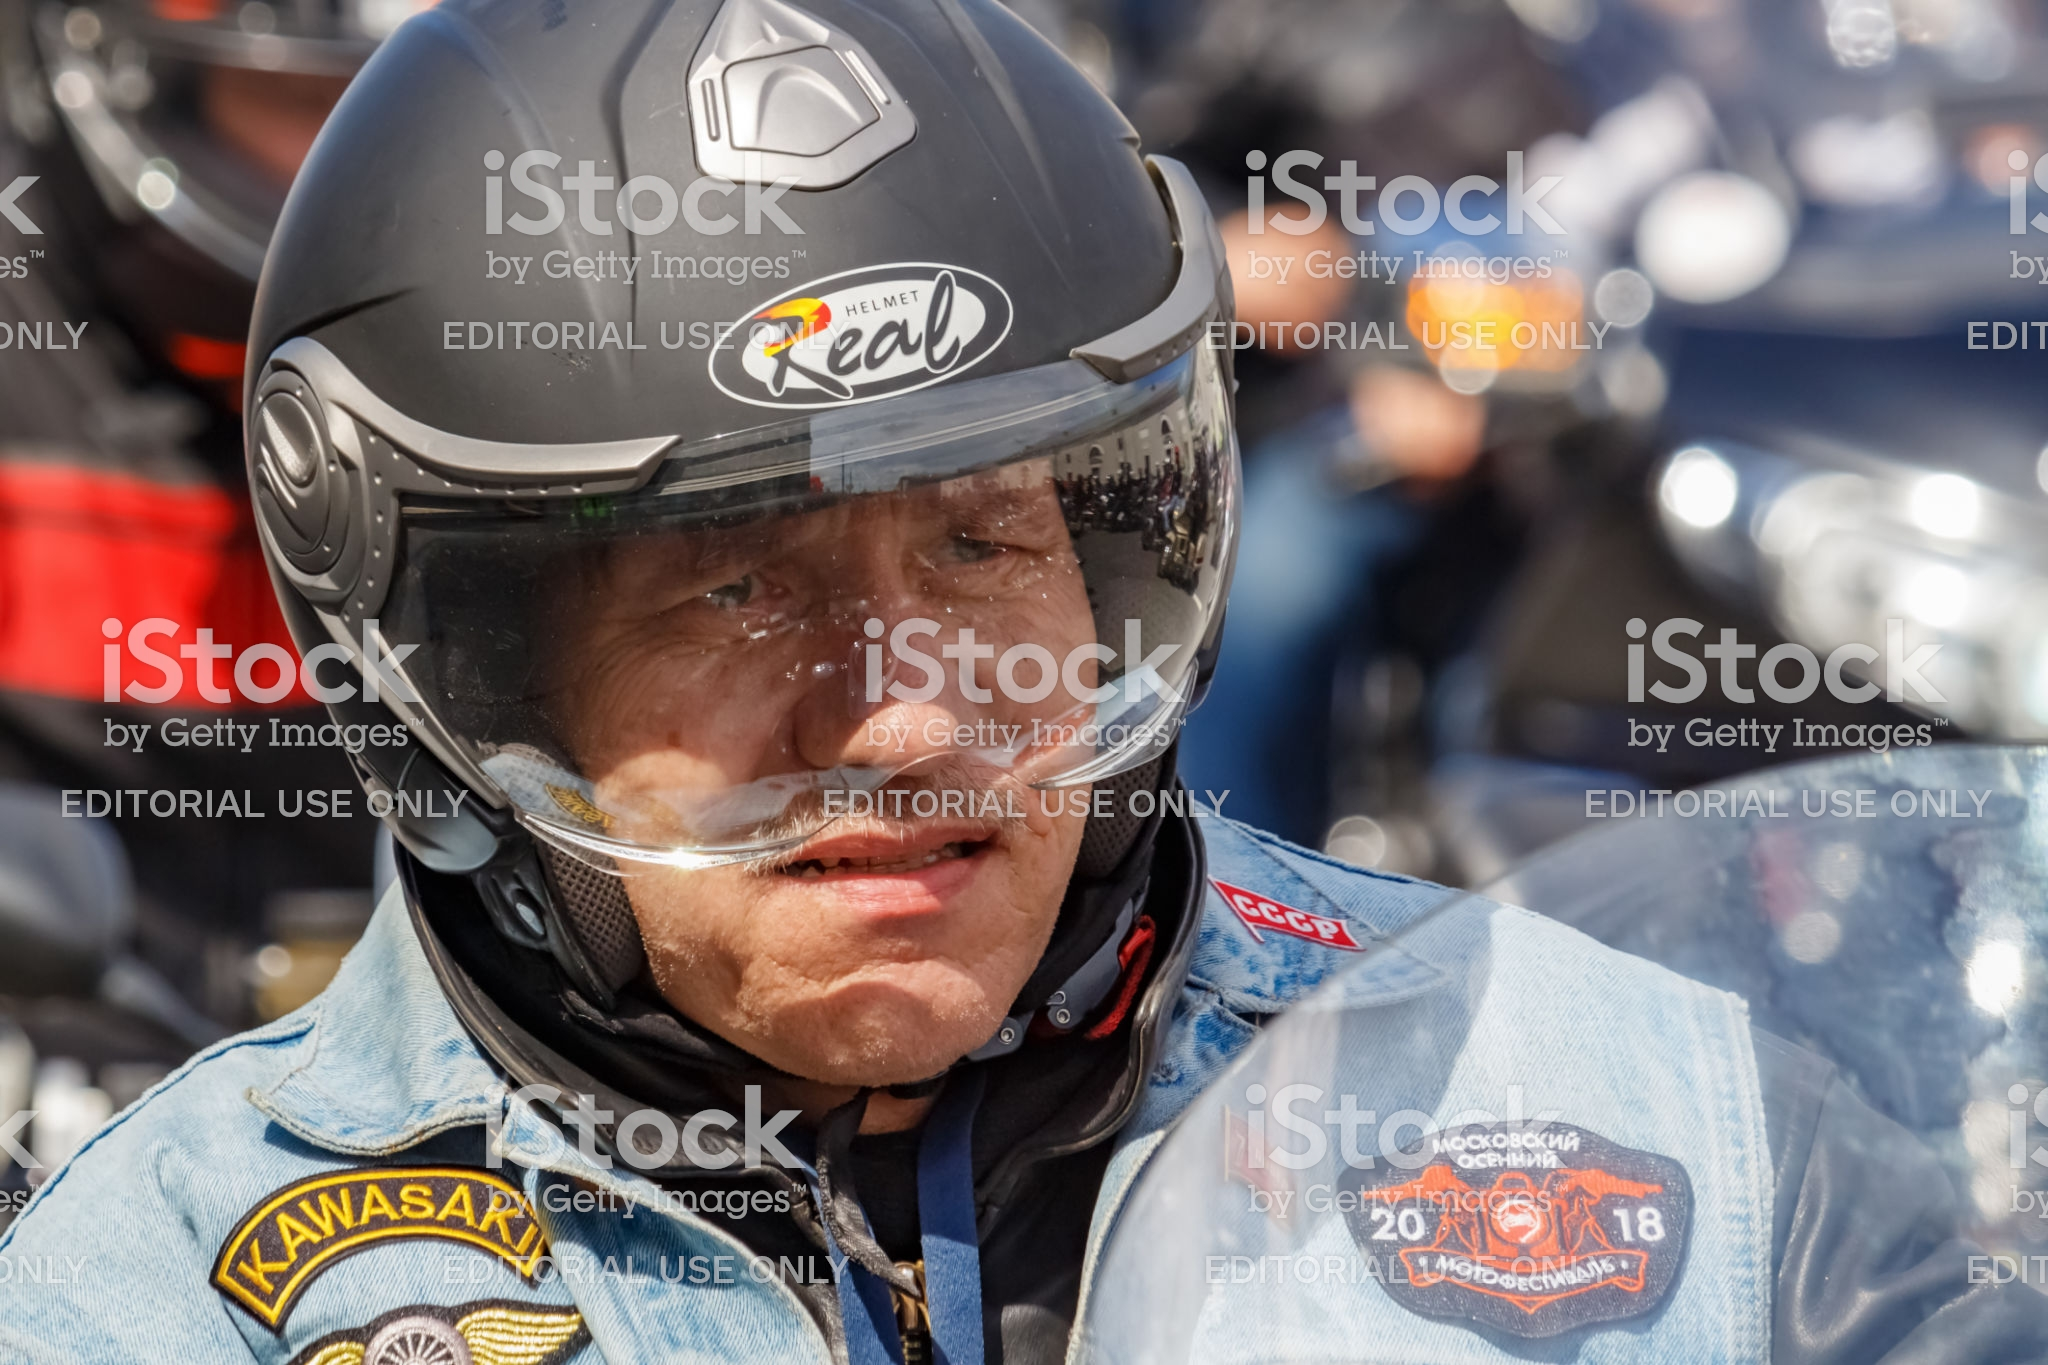helmet: (251, 43, 1293, 1114)
